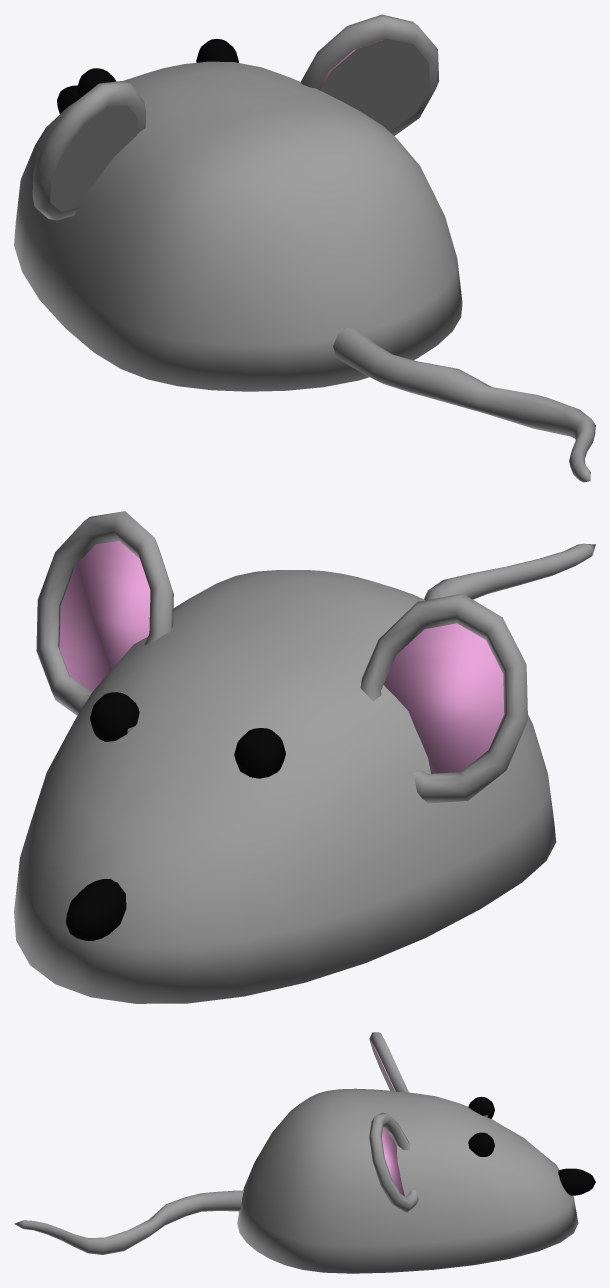
File: mouse.glb
3 views of the same model, one above another, from view 1: azimuth 30°, elevation 25°; view 2: azimuth 150°, elevation 25°; view 3: azimuth 270°, elevation 25° (orthographic). The views are drawn at different scales.
Visible parts, largest first — view 1: Sphere; view 2: Sphere; view 3: Sphere.
Part boxes in pixels (x1,y1,x2,y2): Sphere: [14, 14, 595, 482]; Sphere: [14, 511, 595, 1003]; Sphere: [14, 1032, 595, 1273].
Size of the model in its own units: 1.89 by 1.1 by 3.9.
